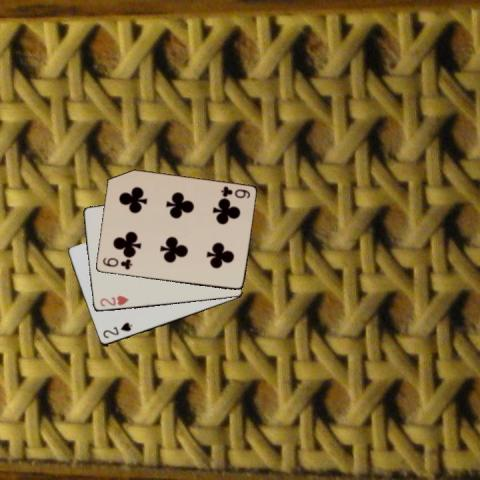2h: (97, 293, 129, 308)
2s: (100, 320, 133, 340)
6c: (218, 183, 252, 200), (100, 255, 134, 271)
